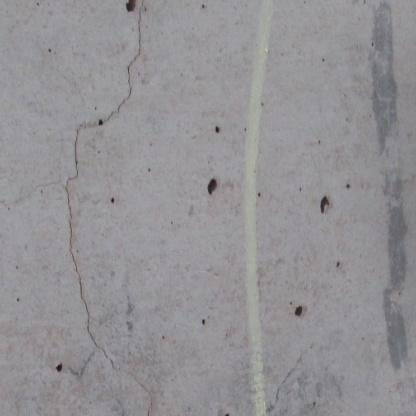Cracks: (32, 0, 164, 416)
